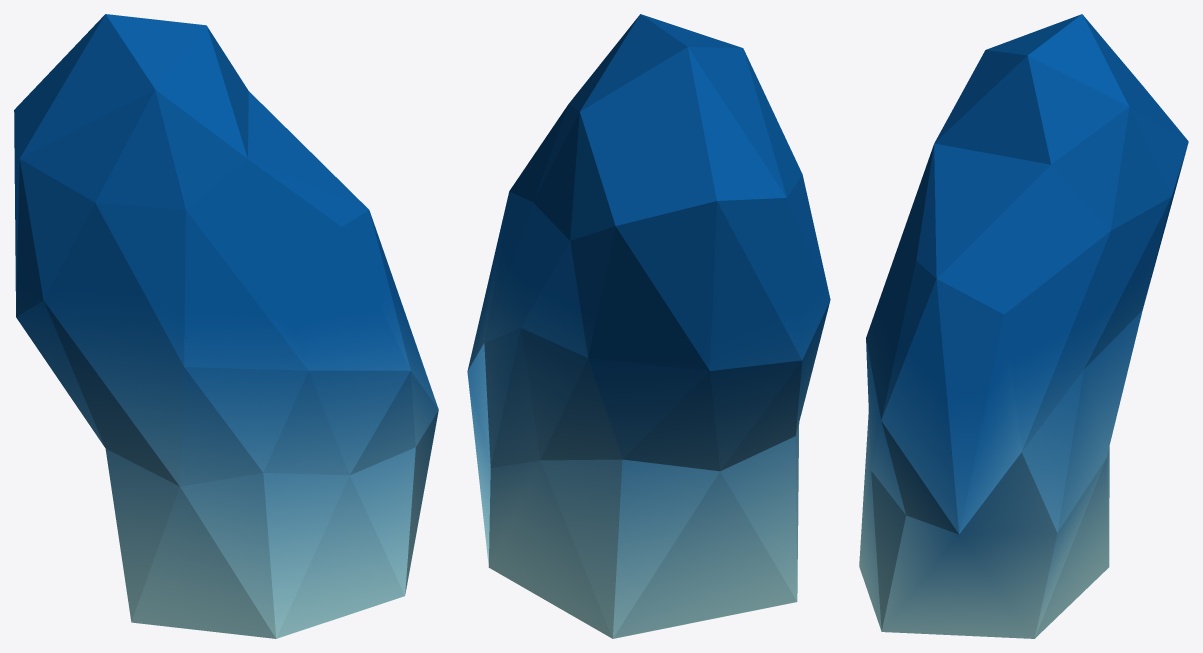
Rendered from IceStone02.fbx.
The picture shows the model from 3 angles, left to right: view 1: azimuth 30°, elevation 25°; view 2: azimuth 150°, elevation 25°; view 3: azimuth 270°, elevation 25°; orthographic projection. The views are drawn at different scales.
Visible parts, largest first — view 1: IceStone02; view 2: IceStone02; view 3: IceStone02.
Part boxes in pixels (x1,y1,x2,y2): IceStone02: (14, 14, 438, 638); IceStone02: (467, 14, 830, 638); IceStone02: (859, 14, 1188, 638).
Bounding box in the file's own units: 3.23 × 4.65 × 2.63.
